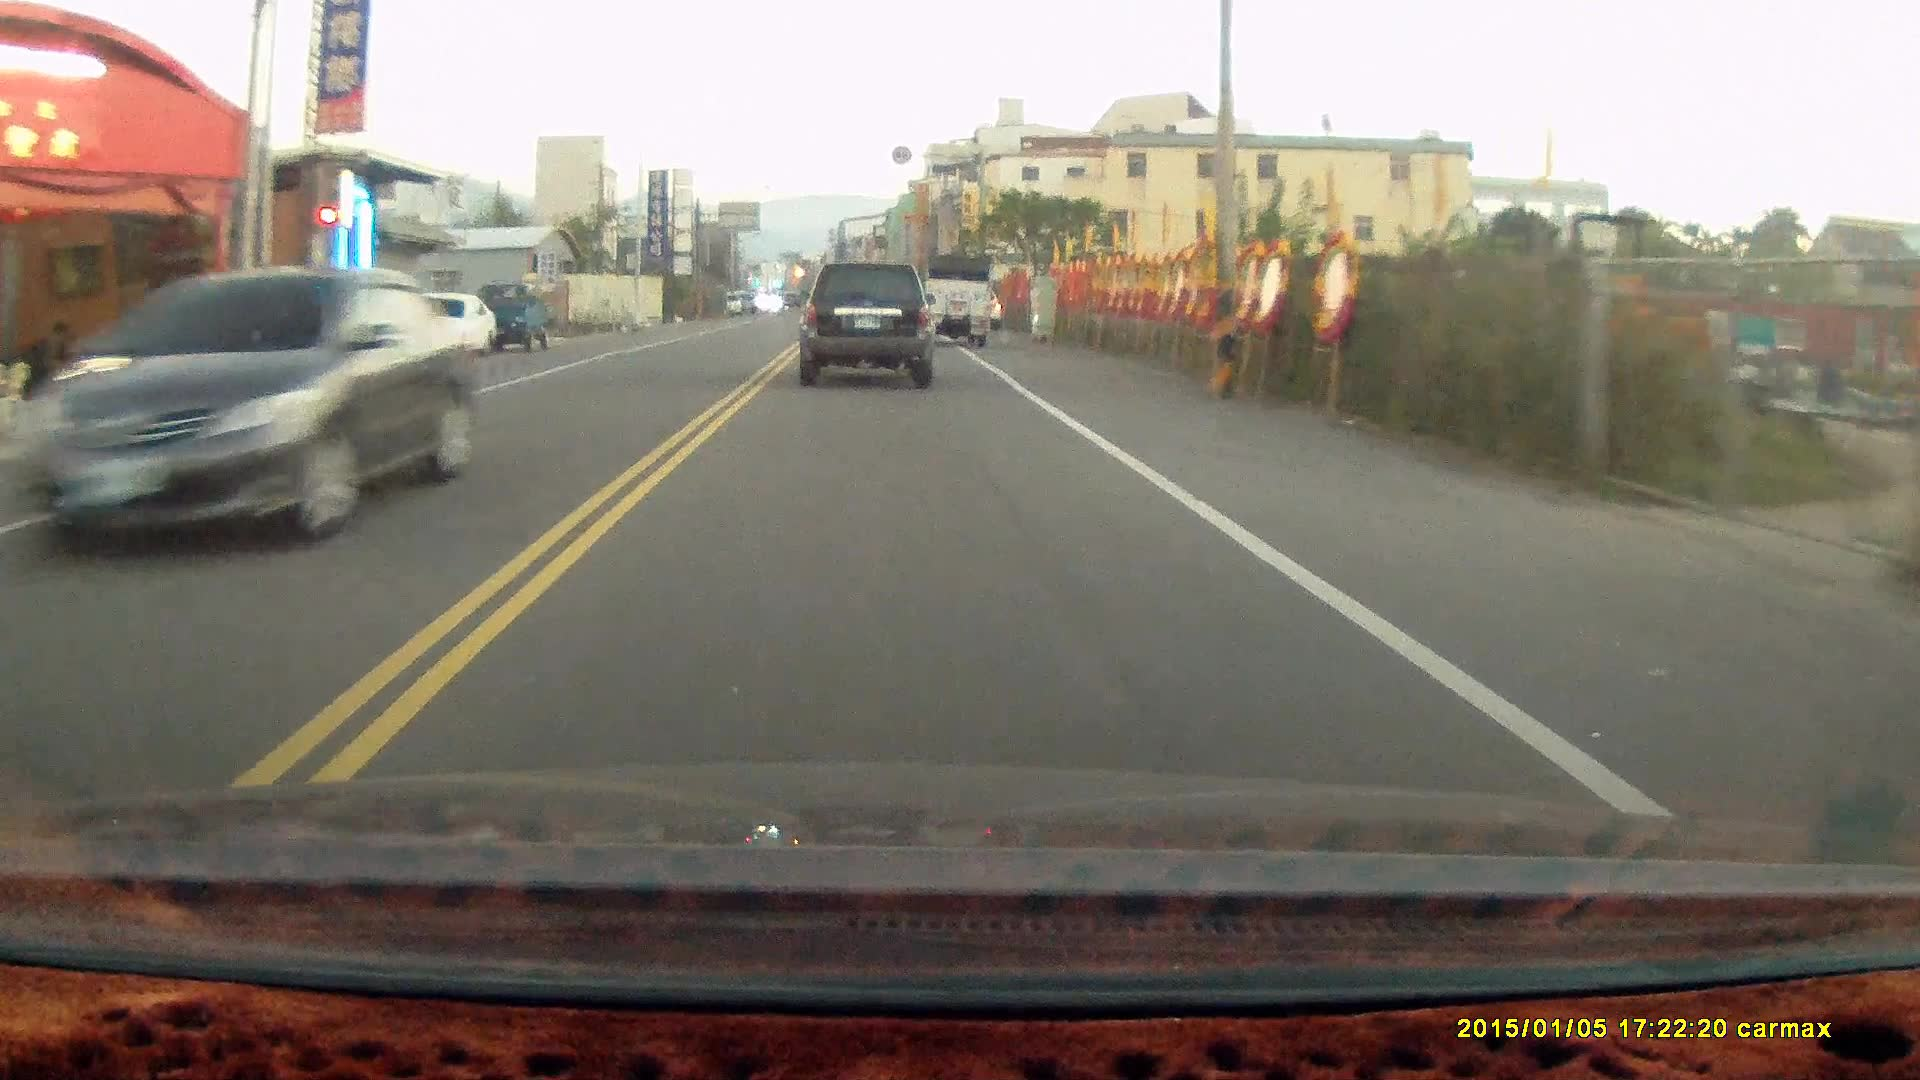vehicle: (15, 270, 463, 553), (800, 260, 938, 392), (386, 287, 498, 361), (924, 255, 998, 349)
